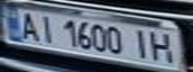0: (106, 25, 127, 56), (90, 21, 109, 53)
1: (57, 17, 78, 47)
6: (72, 20, 93, 51)
A: (15, 10, 42, 43)
H: (145, 29, 181, 65)
I: (127, 27, 154, 61), (33, 14, 60, 44)
